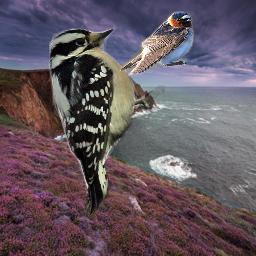Swallow: (119, 11, 194, 78)
Woodpecker: (46, 24, 165, 219)
